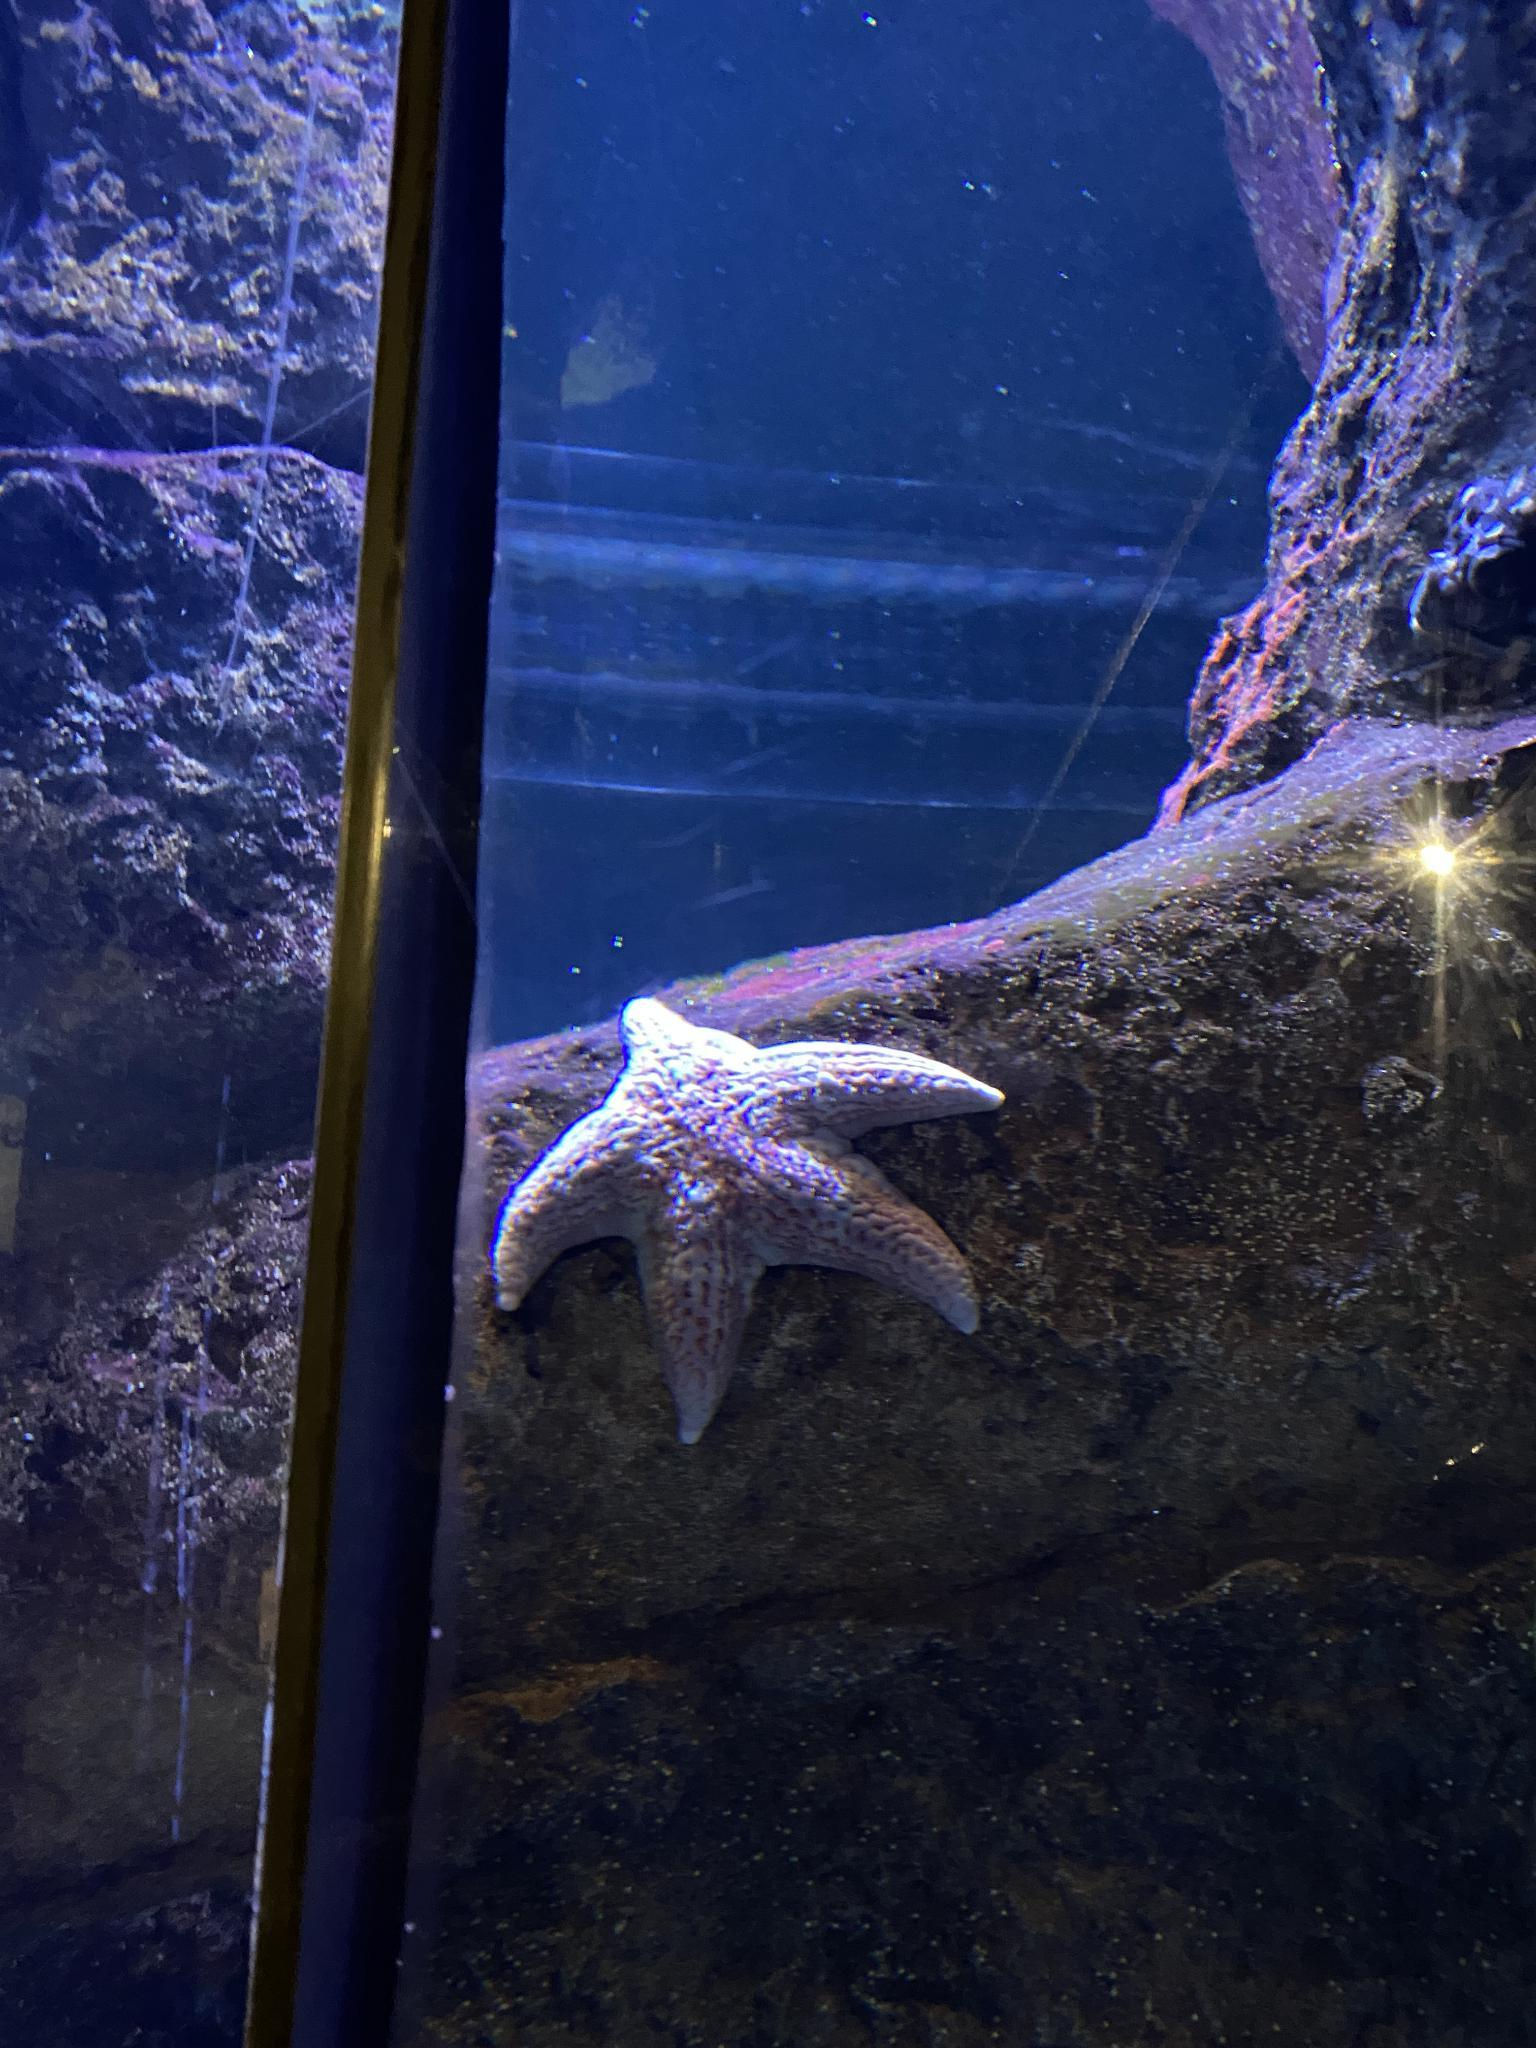starfish: (495, 1001, 1004, 1448)
